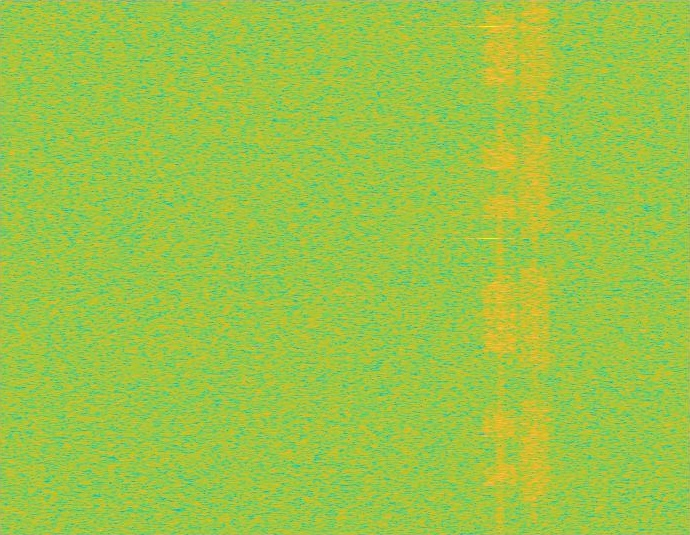5G: (518, 0, 552, 534)
DSSS: (496, 0, 504, 534), (532, 0, 537, 534)
LTE: (483, 0, 518, 534)
Radar: (483, 0, 497, 534)
